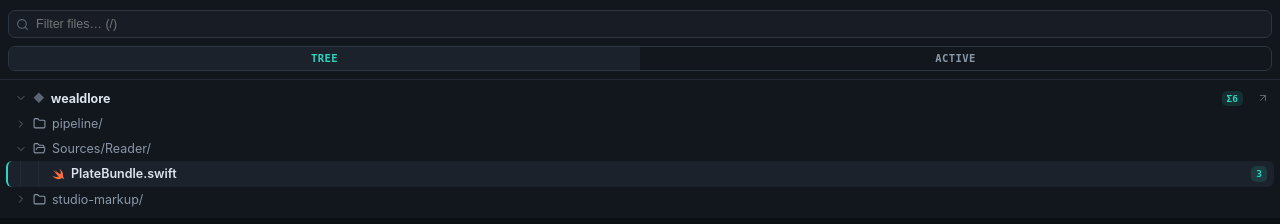
Test: CodeTree — filter (findability escape hatch) › typing into the filter box switches to a flat match list
The width and height of the screenshot is (1280, 224).
Expected: the button "◆ wealdlore Σ6" is shown, [6,86,1250,111]
Type "plates" into the field named "Filter code files".
click(640, 24); type("plates")  # box [8,10,1272,38]
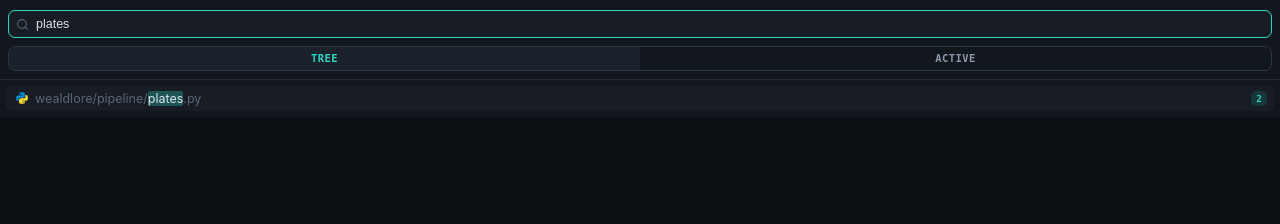
Expected: the button with aria-label "plates.py" is shown, [6,86,1274,111]
Expected: the button "PlateBundle.swift" is gone
Expected: the button "Σ" is gone
